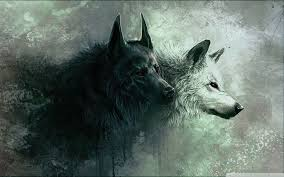Lobo: (95, 8, 176, 129), (167, 34, 254, 130)
